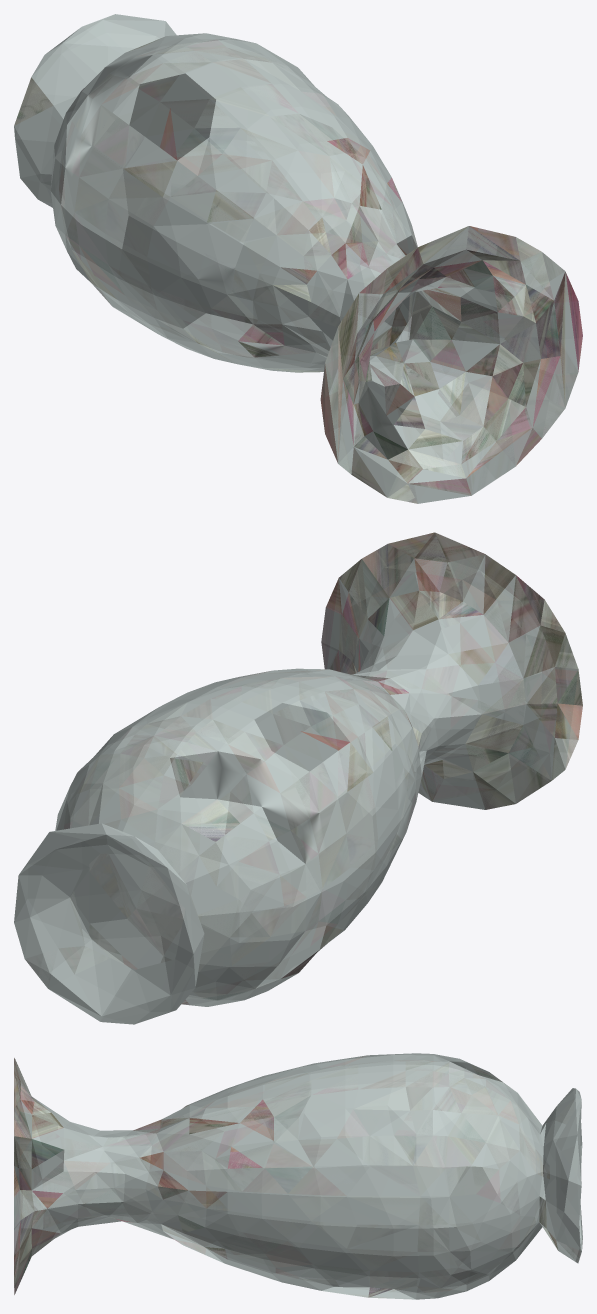
Rendered from model_align.obj.
3 renders of one model, top to bottom at view 1: azimuth 30°, elevation 25°; view 2: azimuth 150°, elevation 25°; view 3: azimuth 270°, elevation 25°, orthographic. The views are drawn at different scales.
Bounding box in the file's own units: 0.1035 × 0.1035 × 0.238.
